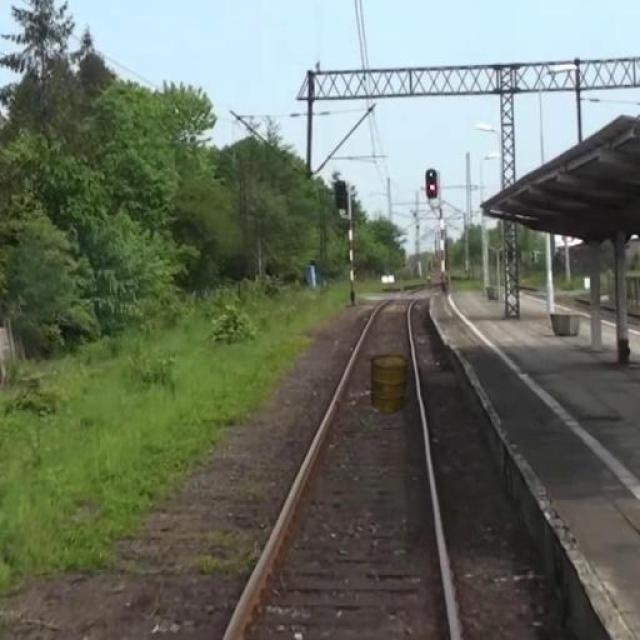Other_objects: (366, 352, 414, 414)
